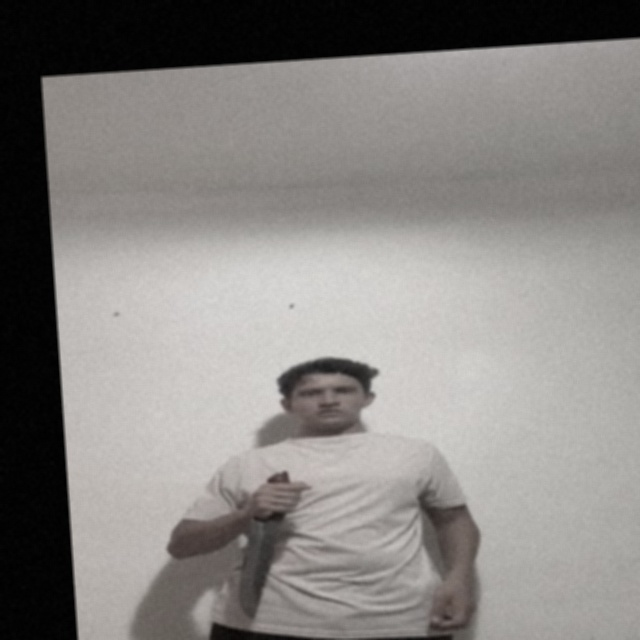Sharp-Object: (233, 517, 290, 621)
